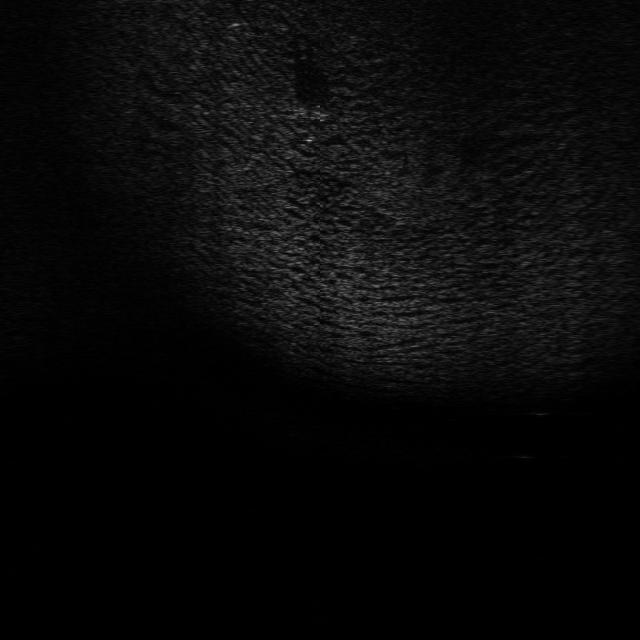plane: (292, 98, 333, 121)
